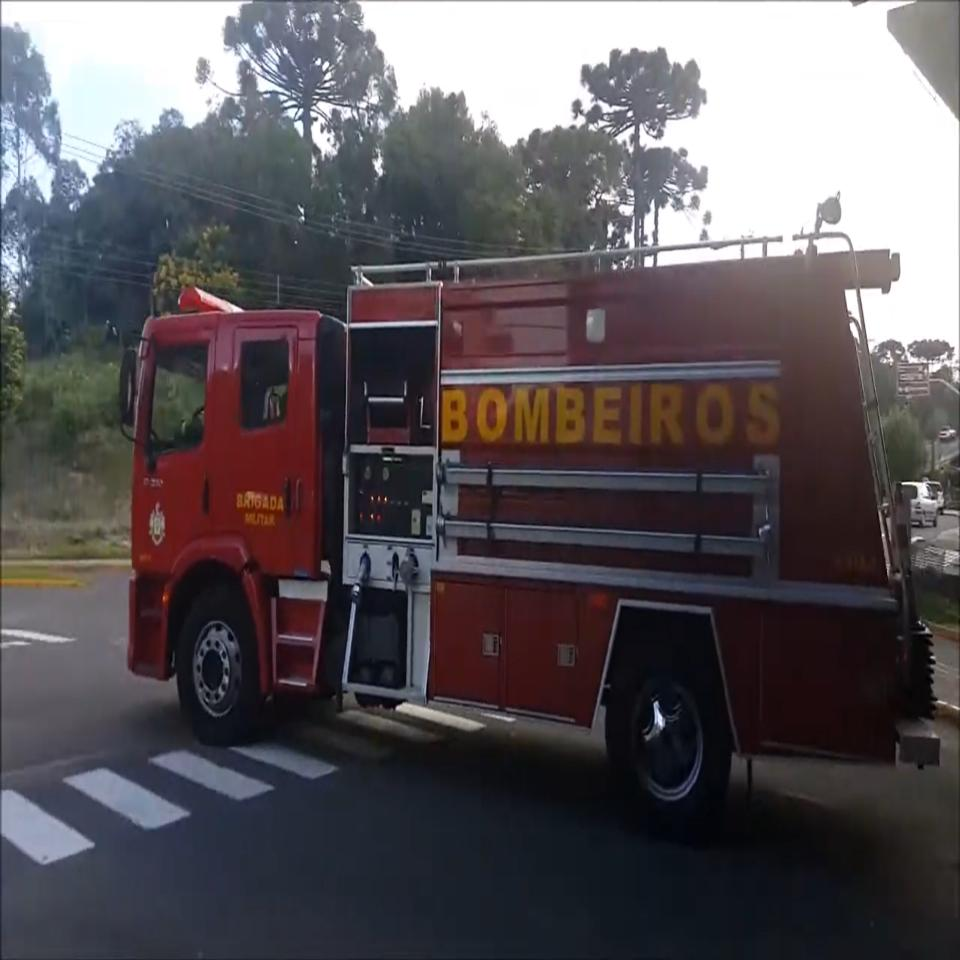viatura: (114, 185, 947, 848)
